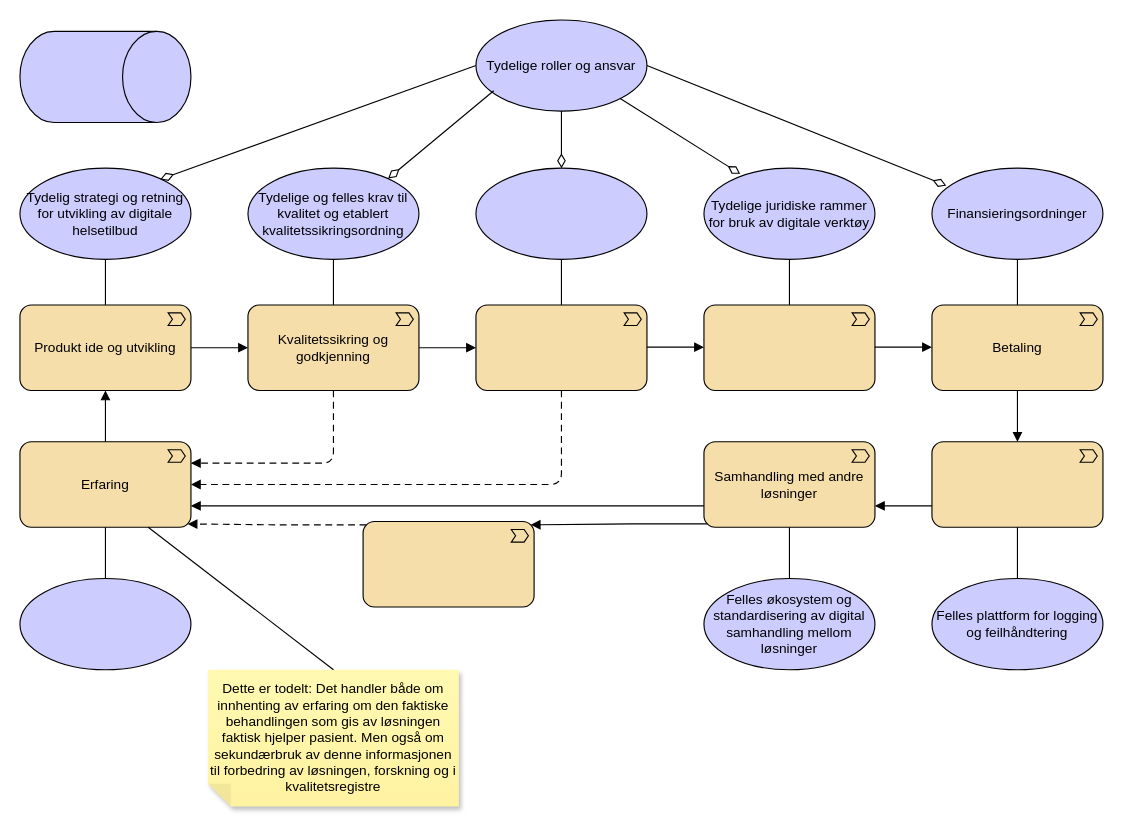
Image size: 1123x834. Some labels were removed from this diagram. Here are the shapes that lost their labels. From the top down, the centre of each, then its label:
(x=105, y=76): Leverandør
(x=561, y=213): Tilgang til makedsplass og distribusjonskanal
(x=561, y=347): Markedsføring, distribusjon og salg
(x=789, y=347): Avtale
(x=1017, y=484): Drift og vedlikehold
(x=448, y=563): Avvikling
(x=105, y=623): Felles mekanismer for erfaringsinnhenting og metoder for resultatmåling
